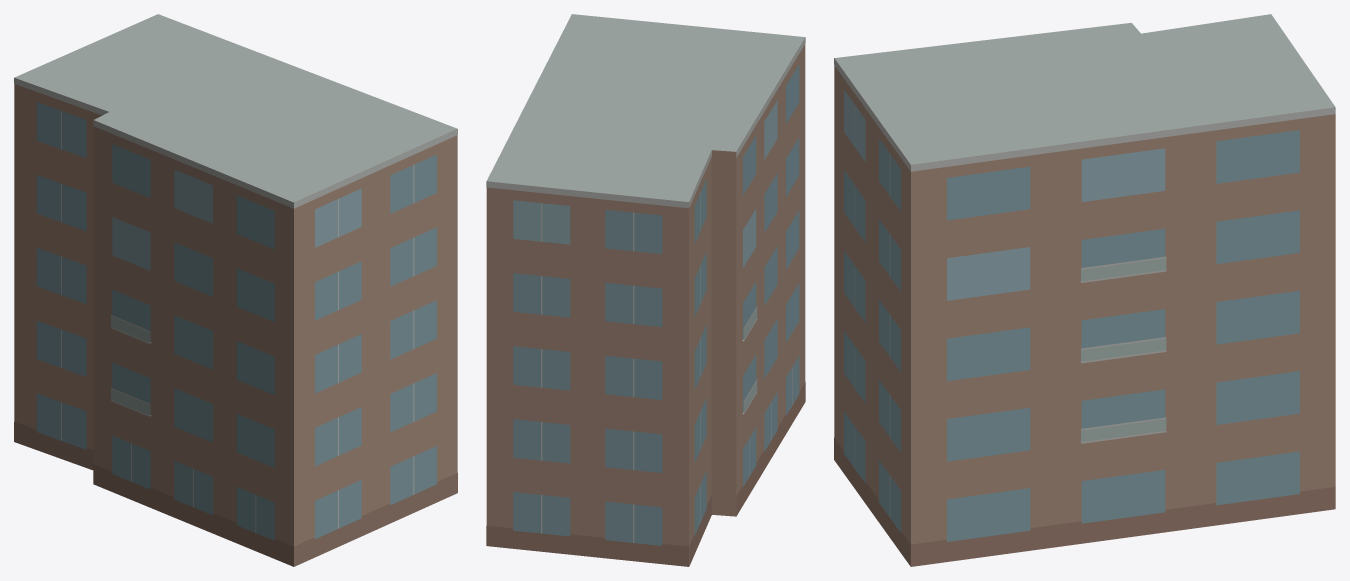
File: survey-upis-33025100.glb
3 views of the same model, side by side, from view 1: azimuth 30°, elevation 25°; view 2: azimuth 150°, elevation 25°; view 3: azimuth 270°, elevation 25° (orthographic). The views are drawn at different scales.
Visible parts, largest first — view 1: survey-upis-33025100.tmp; view 2: survey-upis-33025100.tmp; view 3: survey-upis-33025100.tmp.
Boxes of the visible parts, left/top/right/bottom form: survey-upis-33025100.tmp: left=14, top=14, right=457, bottom=566; survey-upis-33025100.tmp: left=486, top=14, right=805, bottom=566; survey-upis-33025100.tmp: left=834, top=14, right=1335, bottom=566.
Size of the model in its own units: 11.69 by 14.5 by 16.4.
